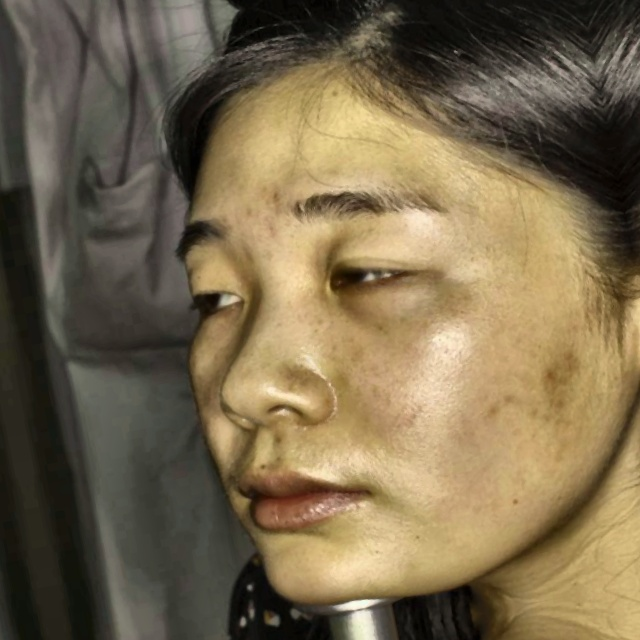comedone: (554, 341, 595, 367), (534, 361, 563, 388), (265, 190, 287, 211)
